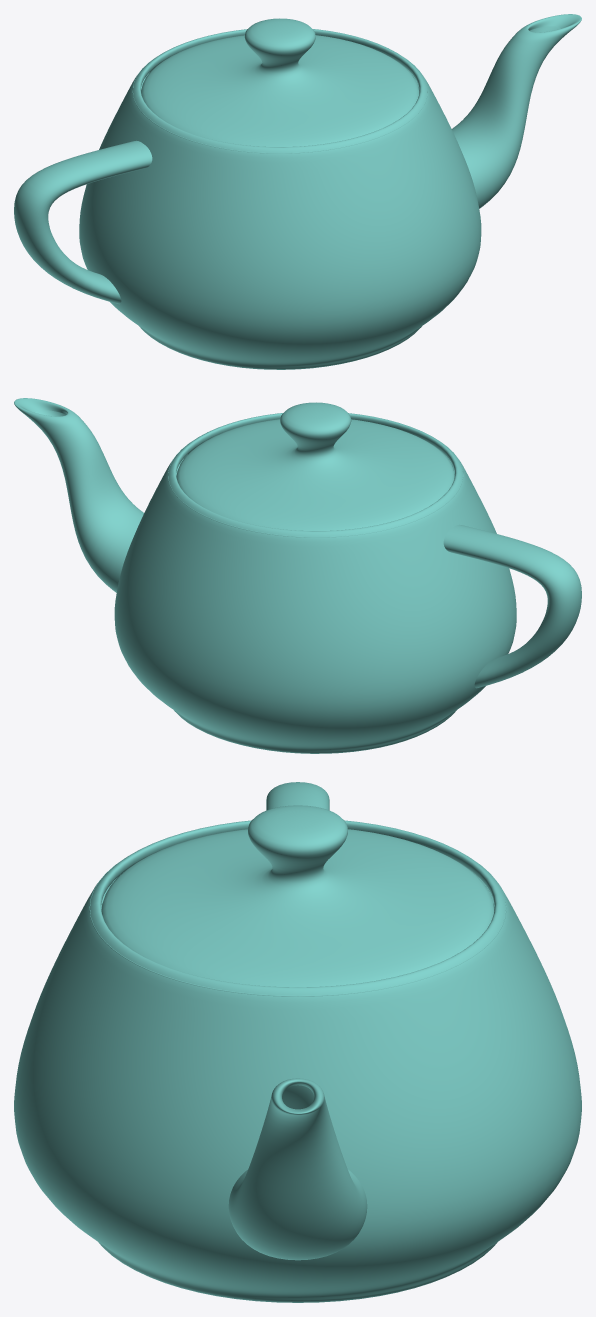
File: teapot.glb
3 renders of one model, top to bottom at view 1: azimuth 30°, elevation 25°; view 2: azimuth 150°, elevation 25°; view 3: azimuth 270°, elevation 25°, orthographic. The views are drawn at different scales.
Parts seen in each view (by area): view 1: Teapot Body, Teapot Lid, Teapot Spout, Teapot Handle; view 2: Teapot Body, Teapot Lid, Teapot Spout, Teapot Handle; view 3: Teapot Body, Teapot Lid, Teapot Spout, Teapot Handle.
Boxes of the visible parts, x1,y1,x2,y2 form: Teapot Body: (79, 29, 481, 369); Teapot Lid: (141, 18, 419, 146); Teapot Spout: (452, 14, 581, 208); Teapot Handle: (14, 140, 152, 304); Teapot Body: (114, 413, 516, 753); Teapot Lid: (176, 402, 454, 530); Teapot Spout: (14, 398, 143, 592); Teapot Handle: (443, 524, 581, 688); Teapot Body: (14, 820, 581, 1302); Teapot Lid: (101, 805, 494, 987); Teapot Spout: (228, 1078, 367, 1260); Teapot Handle: (266, 782, 329, 810).
Size of the model in its own units: 0.3209 by 0.1574 by 0.1981.
